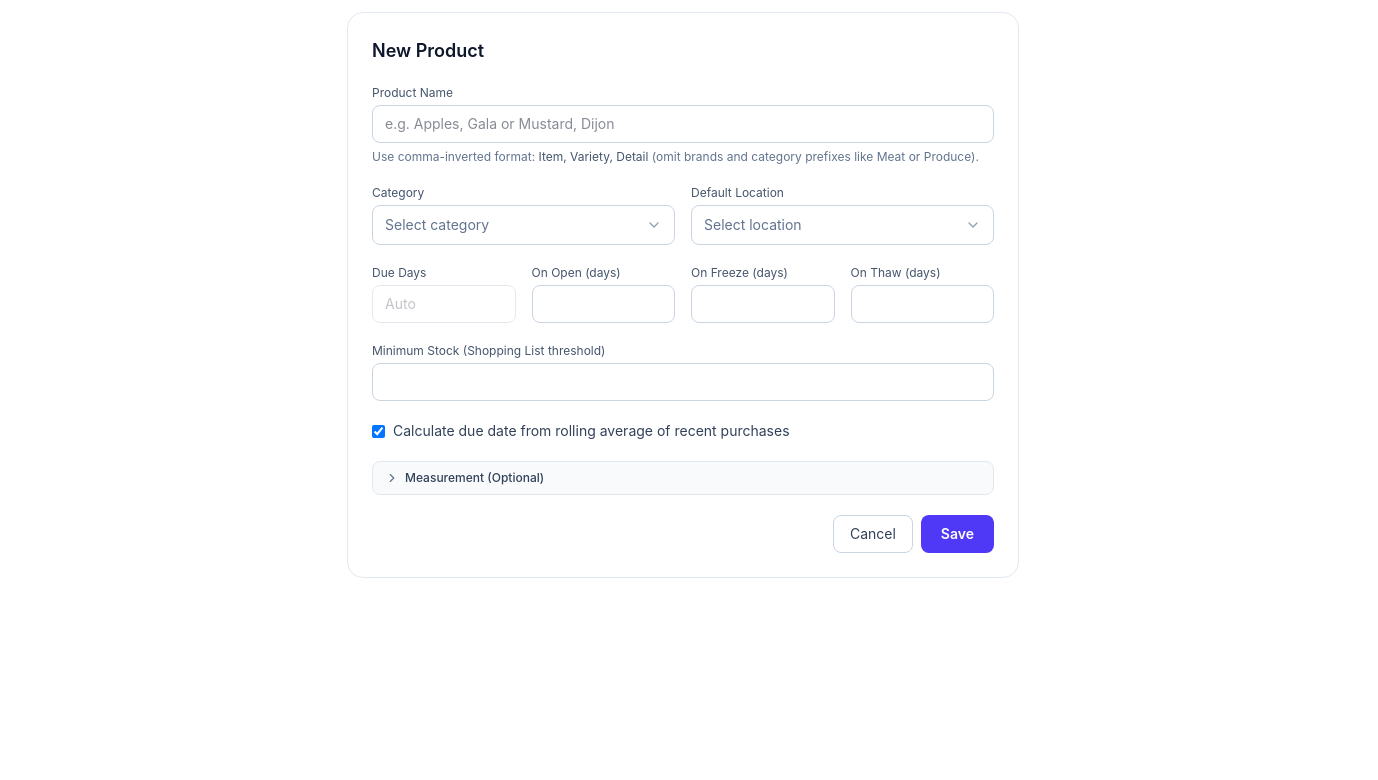
Scenario: ProductFormPage rolling-average due days default › invalidates product, list, search, and location caches when creating a new product with staleTime: 15_000
Type "Oat Milk, Unsweetened" into the field labelled "Product Name".
click(683, 124); type("Oat Milk, Unsweetened")  # box top-left (372, 105), bottom-right (994, 143)
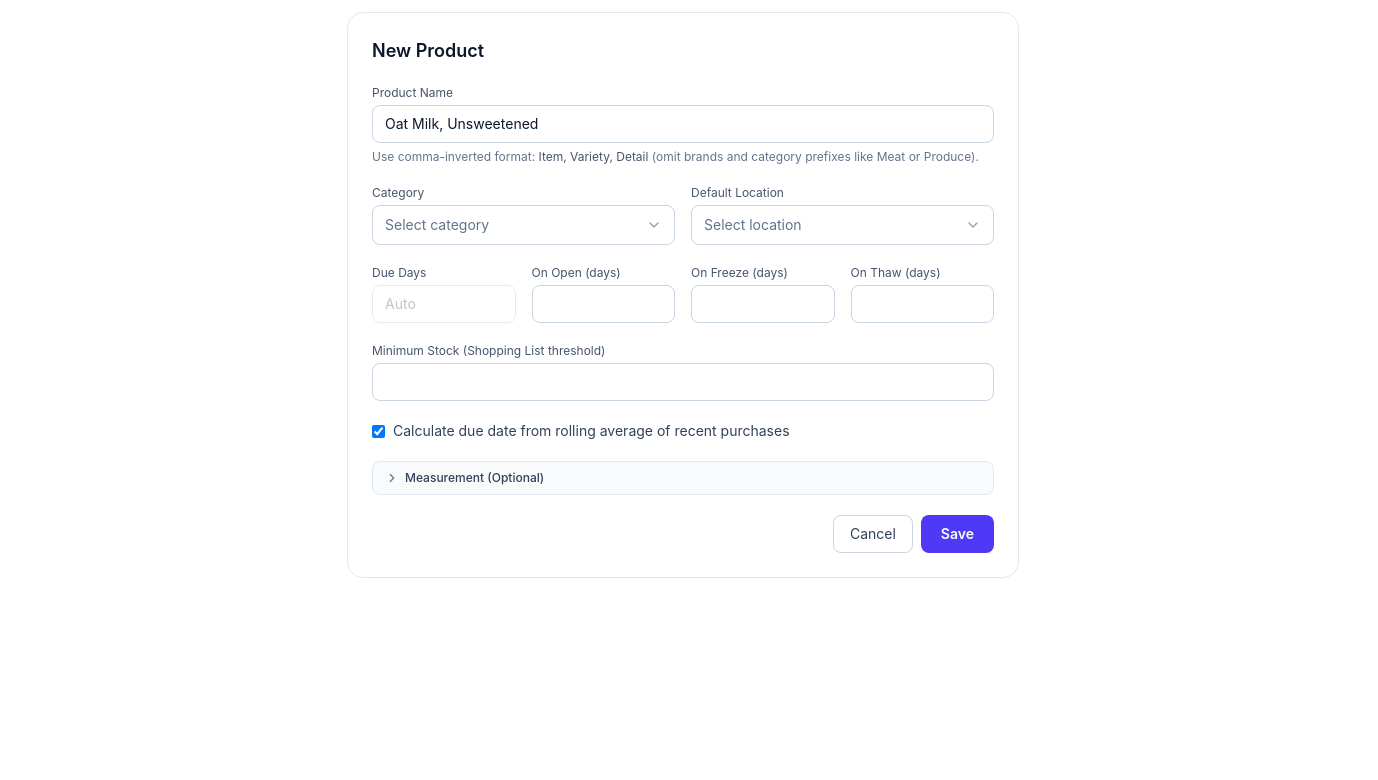
Click the button "Save".
click(957, 534)  # box top-left (921, 515), bottom-right (994, 553)
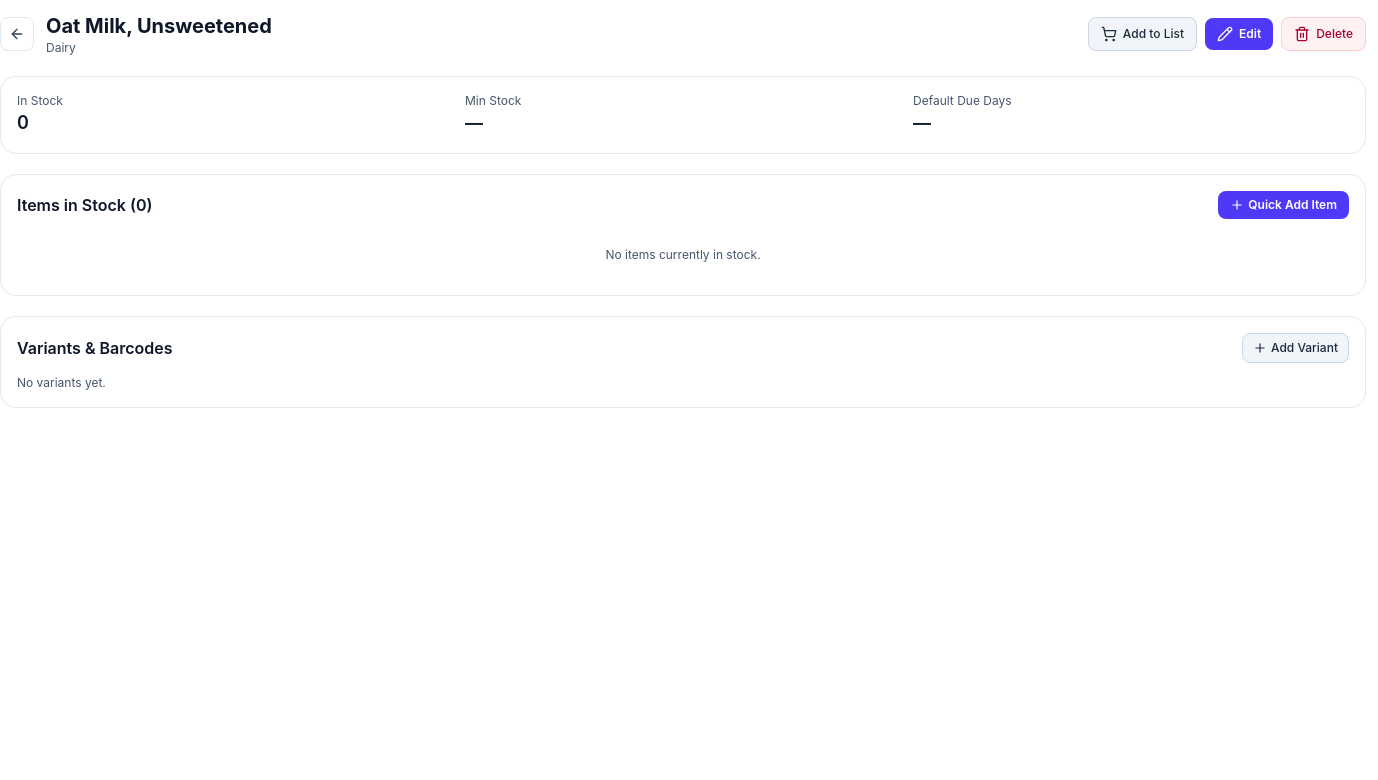
Now the heading "Oat Milk, Unsweetened" is shown, box top-left (46, 12), bottom-right (272, 40)
